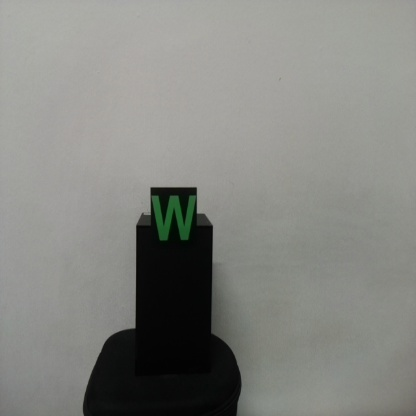id_12: (150, 187, 198, 247)
